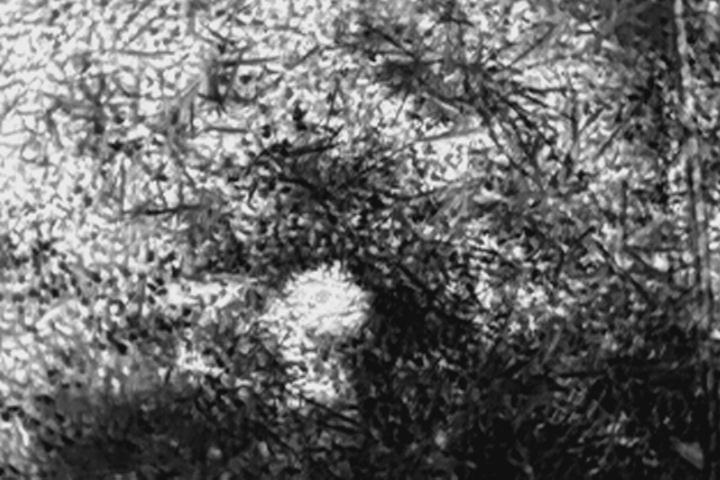landmine: (305, 280, 342, 314)
